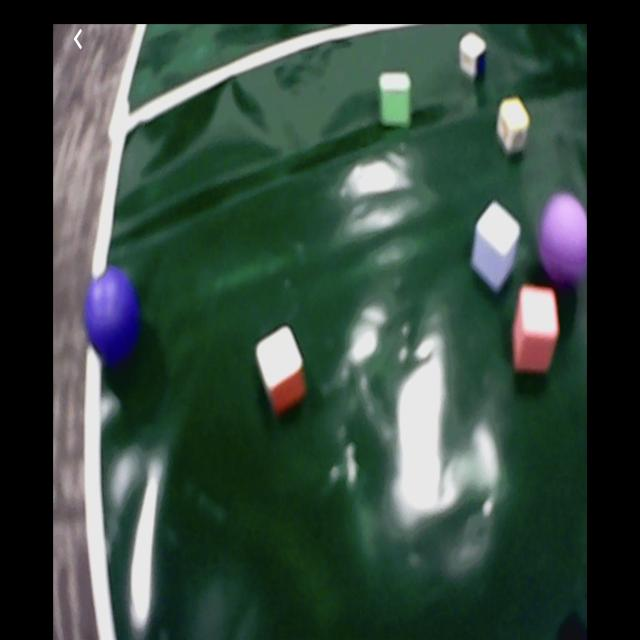ball: (87, 270, 141, 362), (541, 193, 588, 282)
